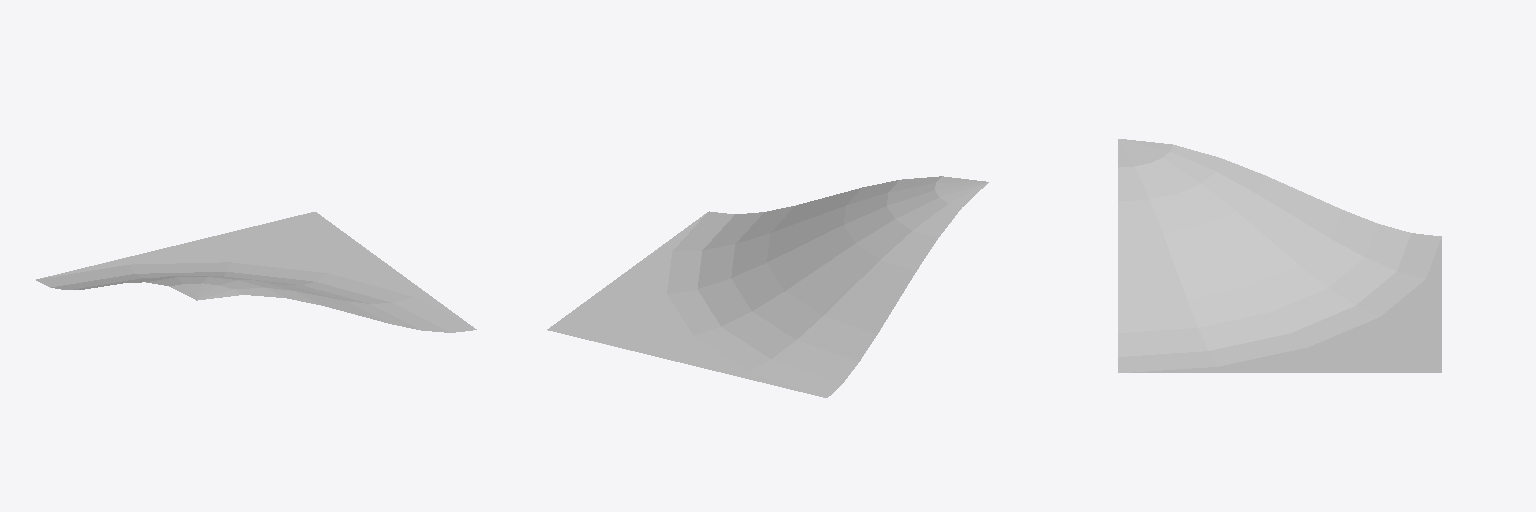
Rendered from Terrain_Hill_Corner_Outer_3x3.obj.
3 renders of one model, left to right at view 1: azimuth 30°, elevation 25°; view 2: azimuth 150°, elevation 25°; view 3: azimuth 270°, elevation 25°, orthographic.
Parts seen in each view (by area): view 1: Grass; view 2: Grass; view 3: Grass.
Boxes of the visible parts, <box> form: Grass: <box>36,212,476,332</box>; Grass: <box>547,176,988,397</box>; Grass: <box>1118,139,1441,372</box>.
Size of the model in its own units: 3 by 1 by 3.